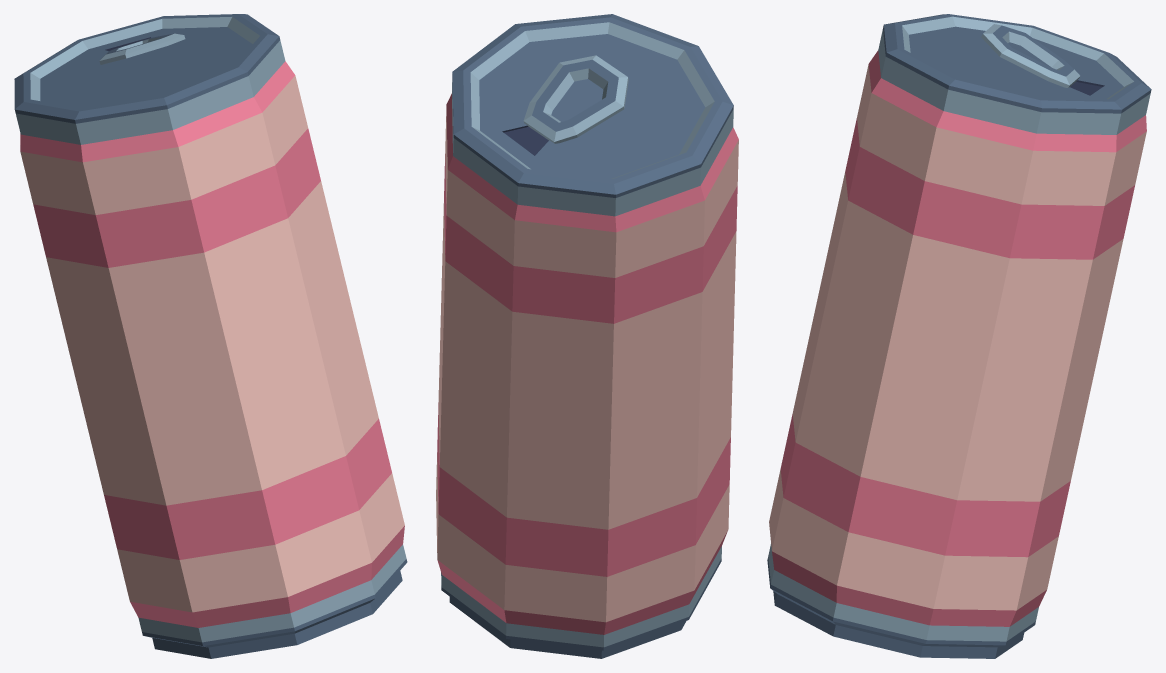
The model's file is DrSwerve.MegaPotion.fbx.
3 views of the same model, side by side, from view 1: azimuth 30°, elevation 25°; view 2: azimuth 150°, elevation 25°; view 3: azimuth 270°, elevation 25° (orthographic). The views are drawn at different scales.
Parts seen in each view (by area): view 1: DrSwerve.MegaPotion; view 2: DrSwerve.MegaPotion; view 3: DrSwerve.MegaPotion.
Part boxes in pixels (<box>): DrSwerve.MegaPotion: <box>14,14,407,658</box>; DrSwerve.MegaPotion: <box>436,14,738,658</box>; DrSwerve.MegaPotion: <box>767,14,1151,658</box>.
Size of the model in its own units: 44.49 by 80.3 by 48.2.
